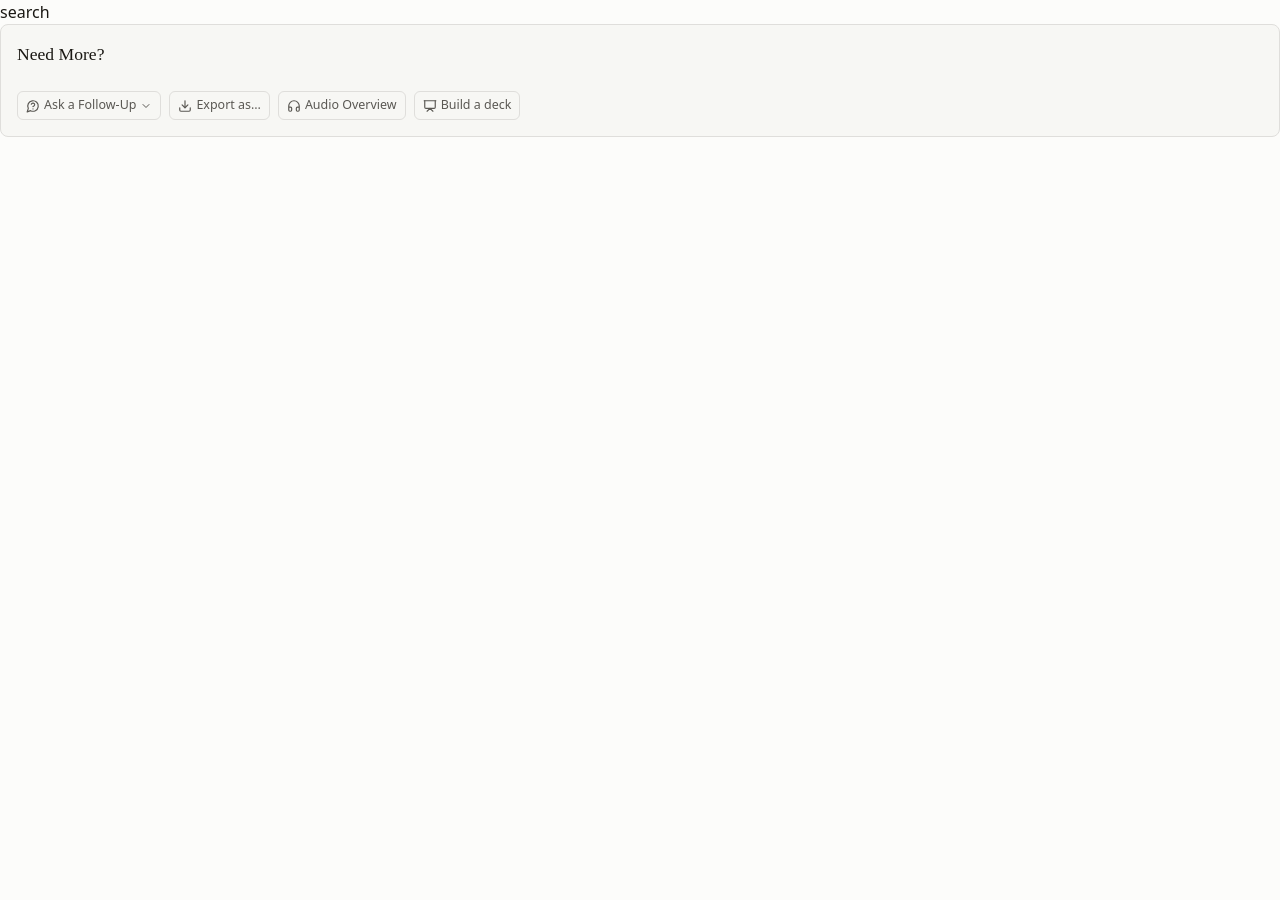
Scenario: NeedMoreCard › closing the mode dialog returns to idle without generating
Click the button "Audio Overview".
click(342, 106)  # box [278,91,406,120]
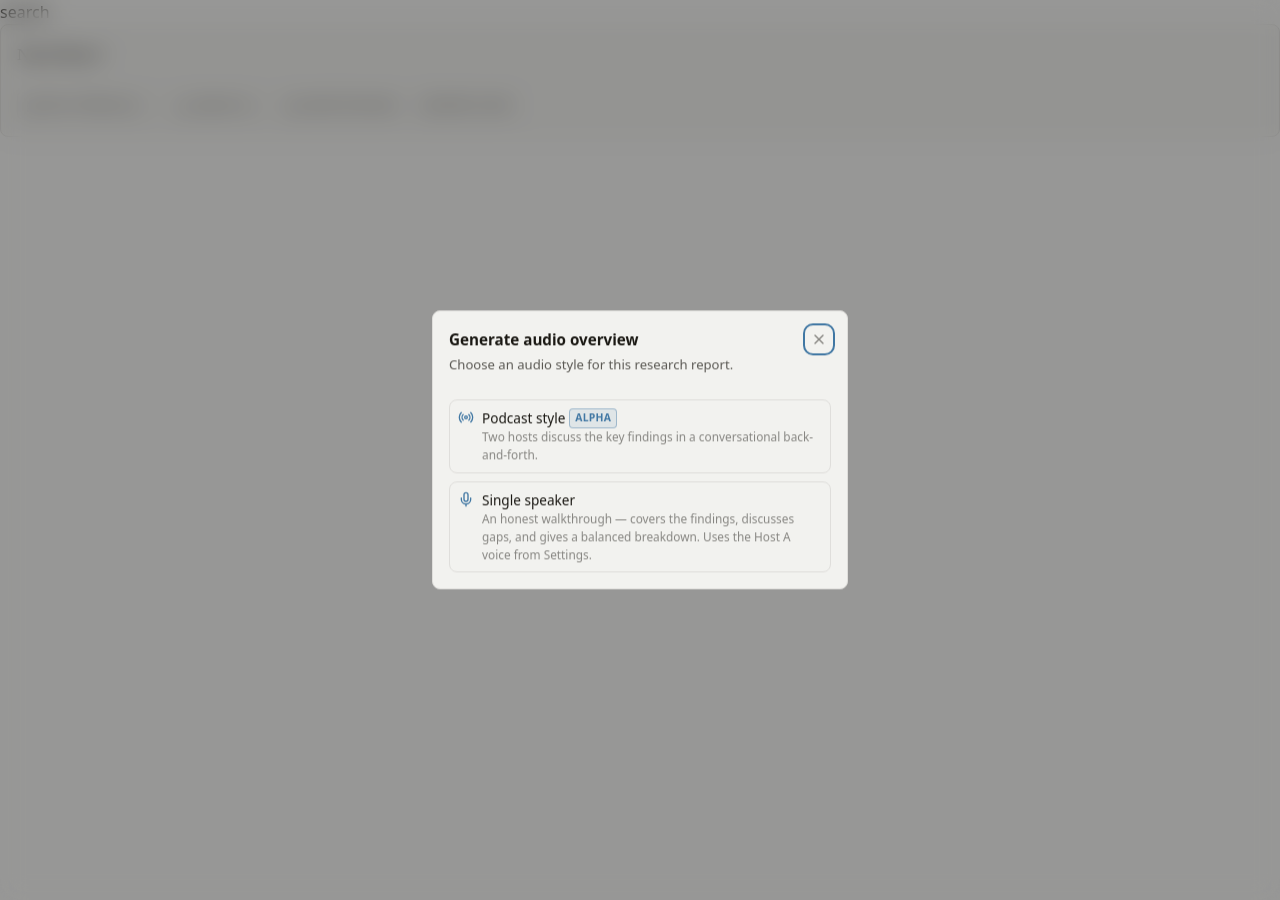
// Close via the X button
Click the button named "Close audio mode dialog".
click(819, 339)  # box [807,327,831,351]
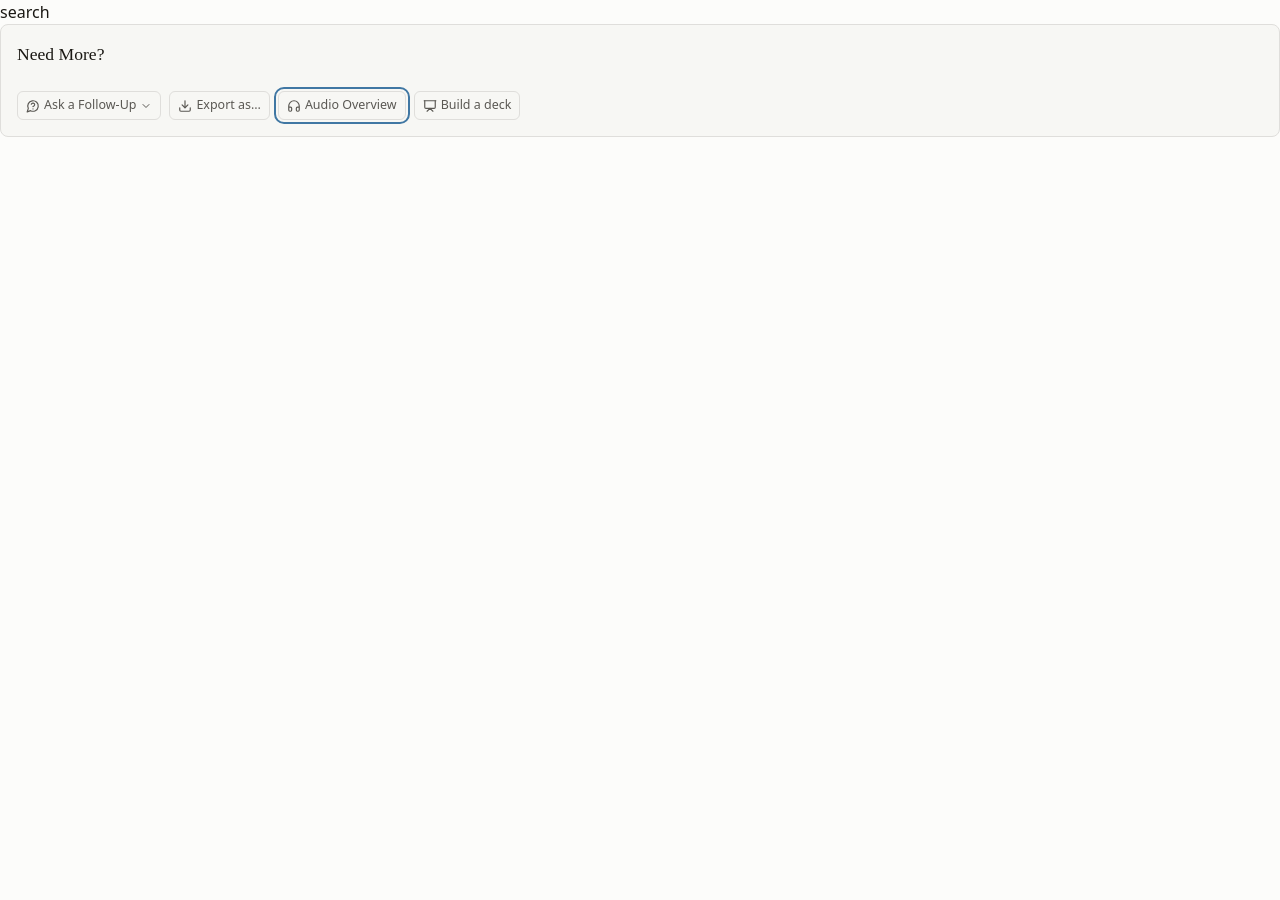
expect the dialog is gone: met
